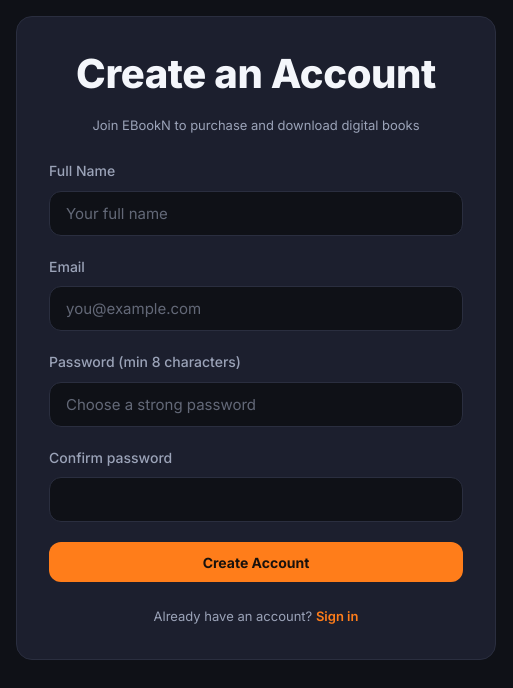
Test: <Register /> › shows a validation error when passwords do not match
Type "Jane" into the field labelled "Full Name" at point(256, 213), box [49,191,463,236]
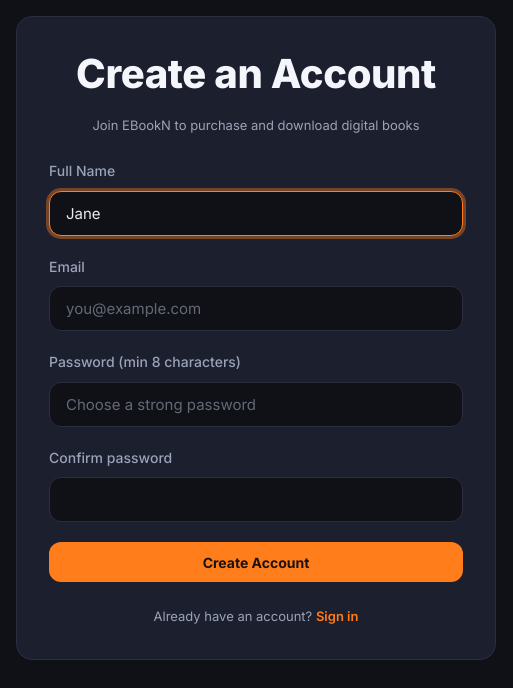
Type "jane@example.com" into the field labelled "Email" at point(256, 309), box [49,286,463,331]
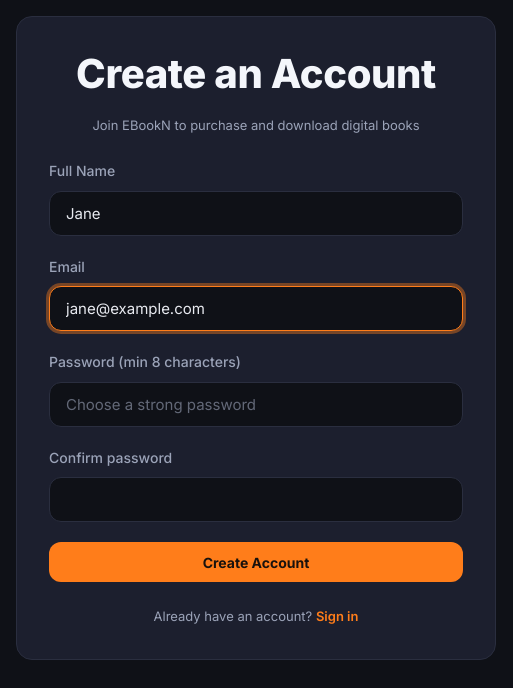
Type "password123" into the password field labelled "Password (min 8 characters)" at point(256, 404), box [49,382,463,427]
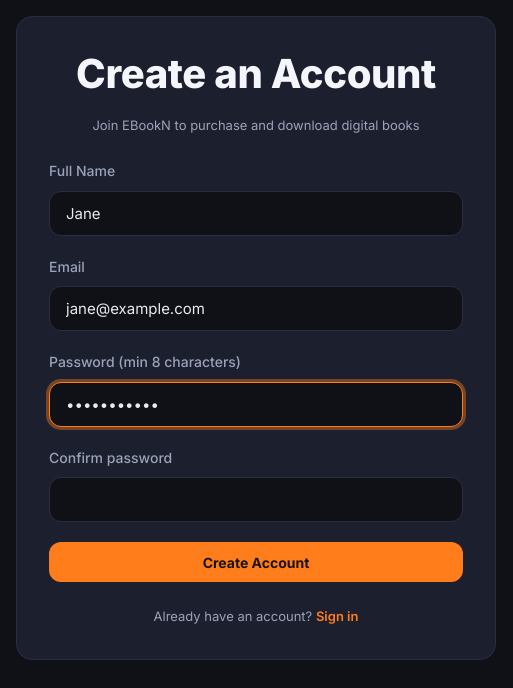
Type "different456" into the password field labelled "Confirm password" at point(256, 500), box [49,477,463,522]
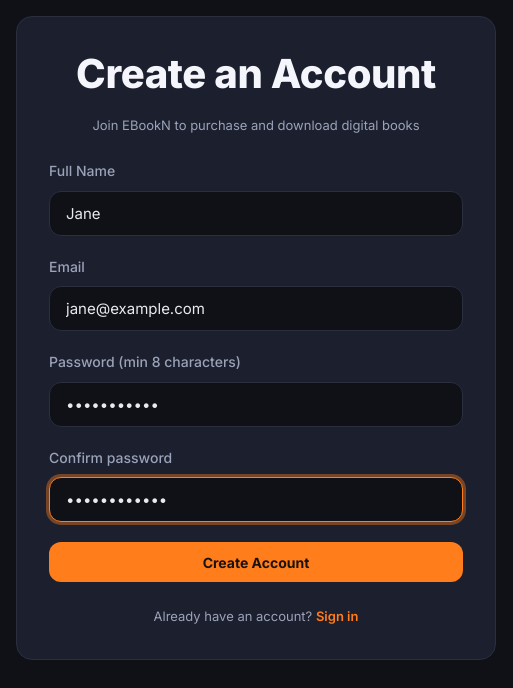
Click the button "Create Account" at point(256, 562), box [49,542,463,582]
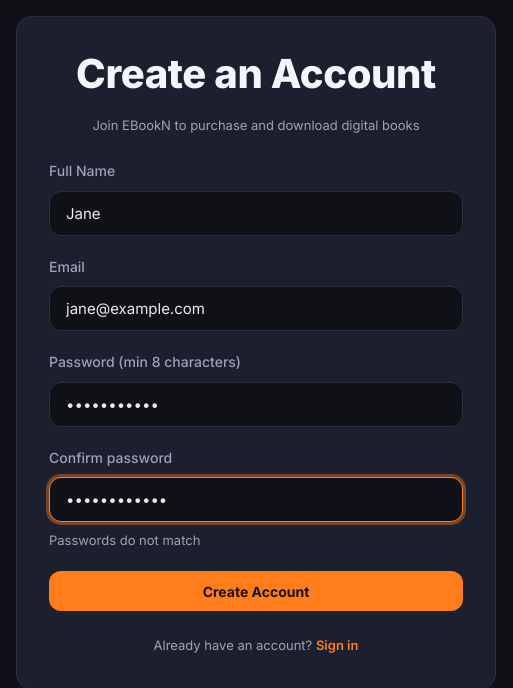
expect the text "Passwords do not match" is shown: met, box [49,532,200,548]
